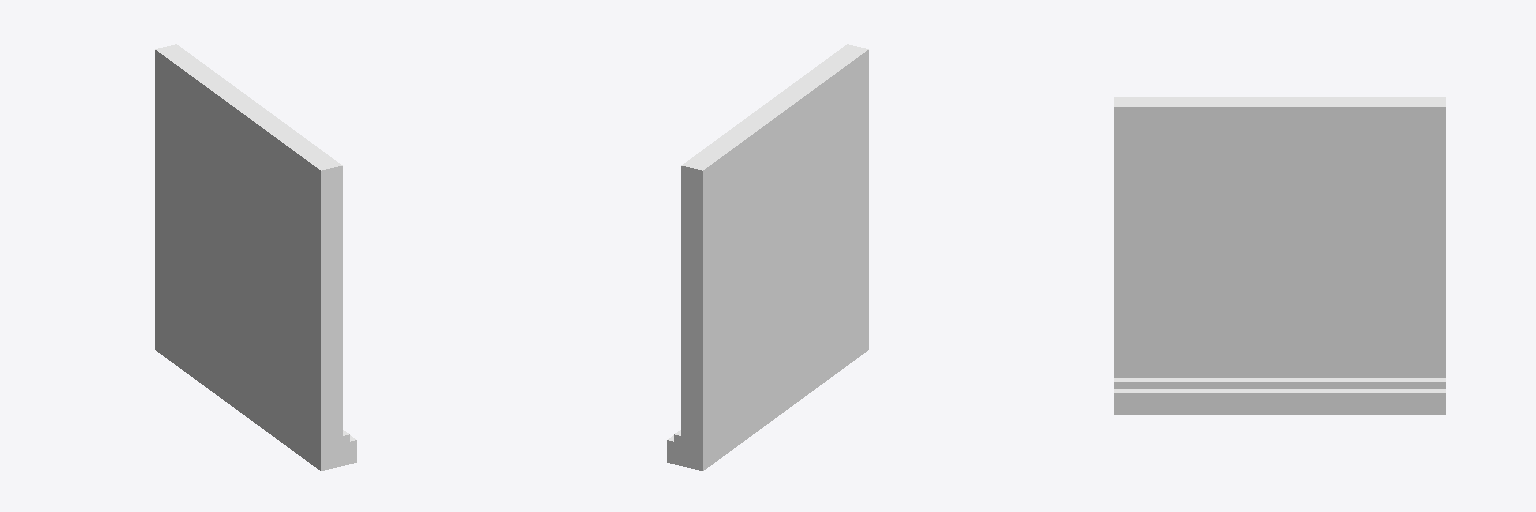
The model's file is lazwall_nowindow.obj.
The picture shows the model from 3 angles: view 1: azimuth 30°, elevation 25°; view 2: azimuth 150°, elevation 25°; view 3: azimuth 270°, elevation 25°; orthographic projection.
Parts seen in each view (by area): view 1: object 1; view 2: object 1; view 3: object 1.
Boxes of the visible parts, x1=… form: object 1: x1=155, y1=44, x2=356, y2=470; object 1: x1=667, y1=44, x2=868, y2=470; object 1: x1=1114, y1=97, x2=1445, y2=414.
Size of the model in its own units: 0.5 by 4 by 4.